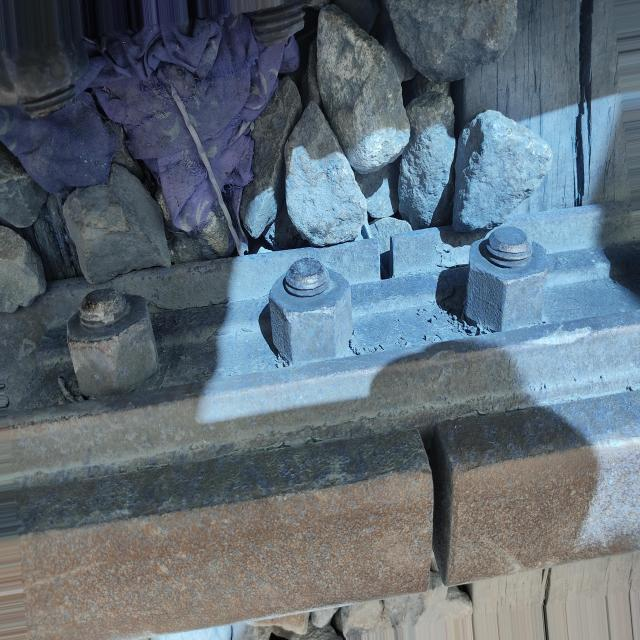crack: (401, 400, 479, 602)
